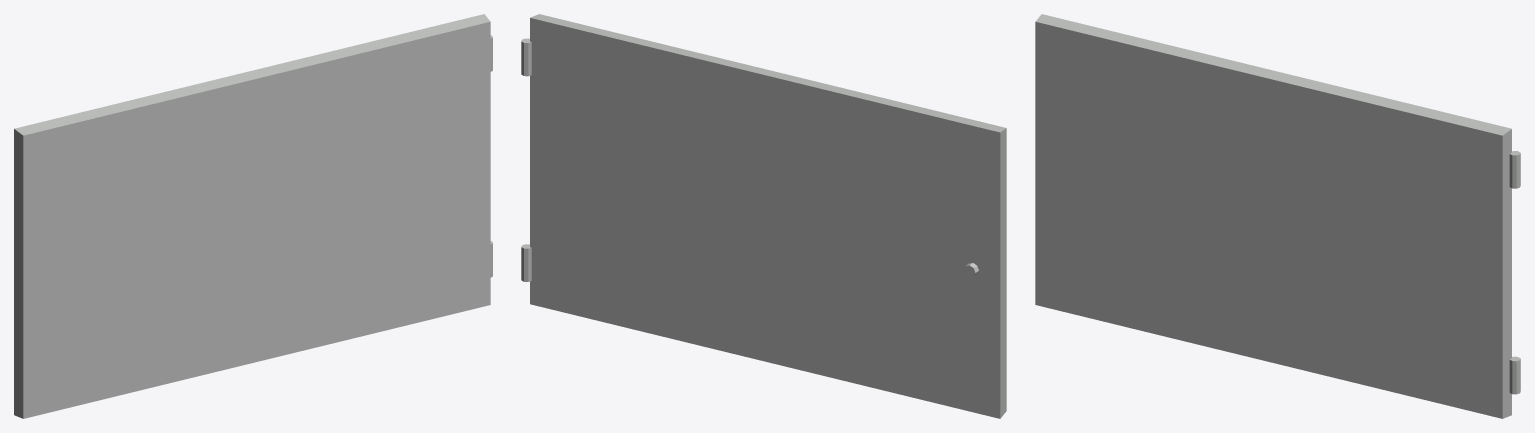
Rendered from SM_Cart_BaoDoor_L_01.fbx.
3 renders of one model, left to right at view 1: azimuth 30°, elevation 25°; view 2: azimuth 150°, elevation 25°; view 3: azimuth 330°, elevation 25°, orthographic.
Visible parts, largest first — view 1: SM_Cart_BaoDoor_L_01; view 2: SM_Cart_BaoDoor_L_01; view 3: SM_Cart_BaoDoor_L_01.
Part boxes in pixels (<box>): SM_Cart_BaoDoor_L_01: <box>14,14,492,418</box>; SM_Cart_BaoDoor_L_01: <box>521,14,1006,418</box>; SM_Cart_BaoDoor_L_01: <box>1035,14,1520,418</box>.
Bounding box in the file's own units: 0.6325 × 0.362 × 0.026.
Materials: 1 (1 with a texture image).
